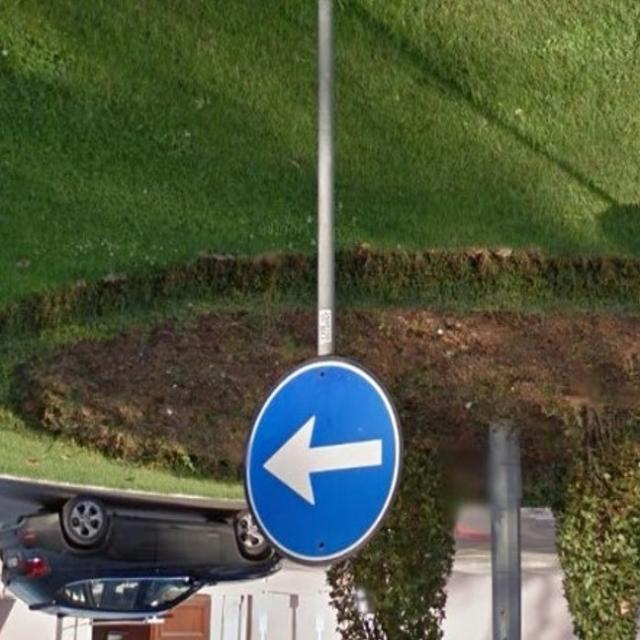Turn Left: (249, 360, 403, 563)
